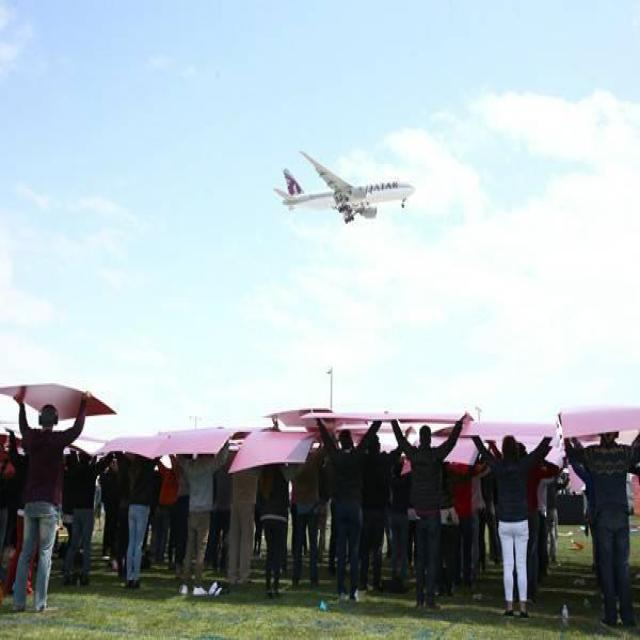non-fight: (2, 384, 94, 614), (471, 426, 556, 622), (386, 418, 468, 615), (563, 431, 640, 631), (314, 416, 382, 609), (172, 446, 224, 597)
